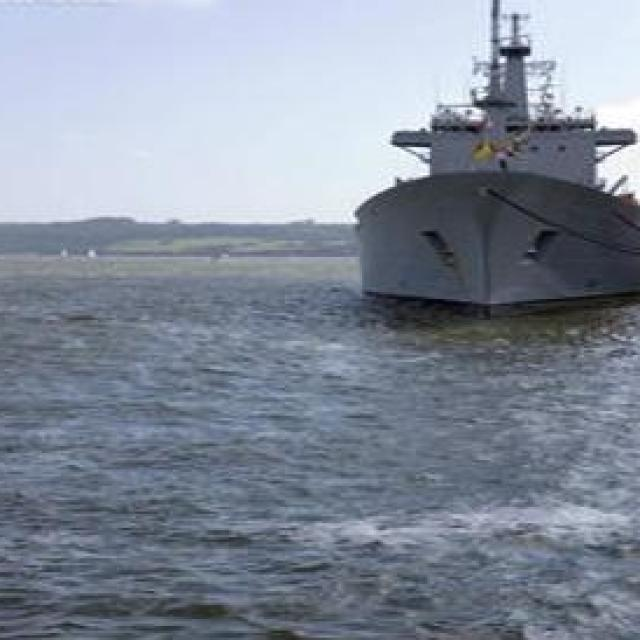navalvessels: (327, 25, 640, 318)
